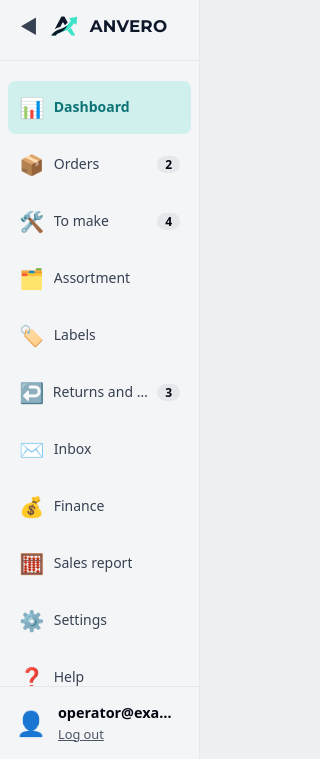
Test: the menu's badges › are read again when the operator moves to another page
The width and height of the screenshot is (320, 759).
Expected: the text "2" is shown, [157,156,180,173]
Click the link "📦 Orders 2": (100, 164) [19,151,180,178]
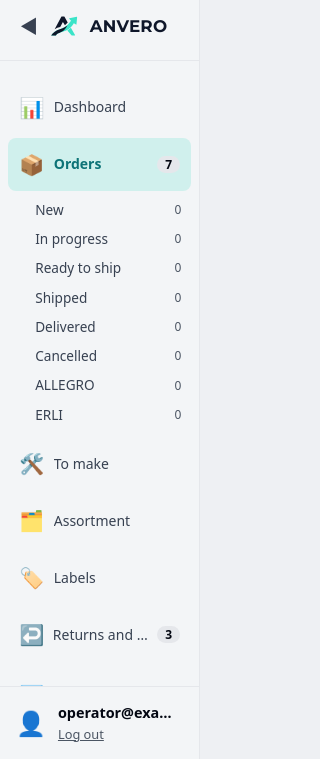
Result: the text with class "nav-badge" reads "7" at [165,156,172,172]
